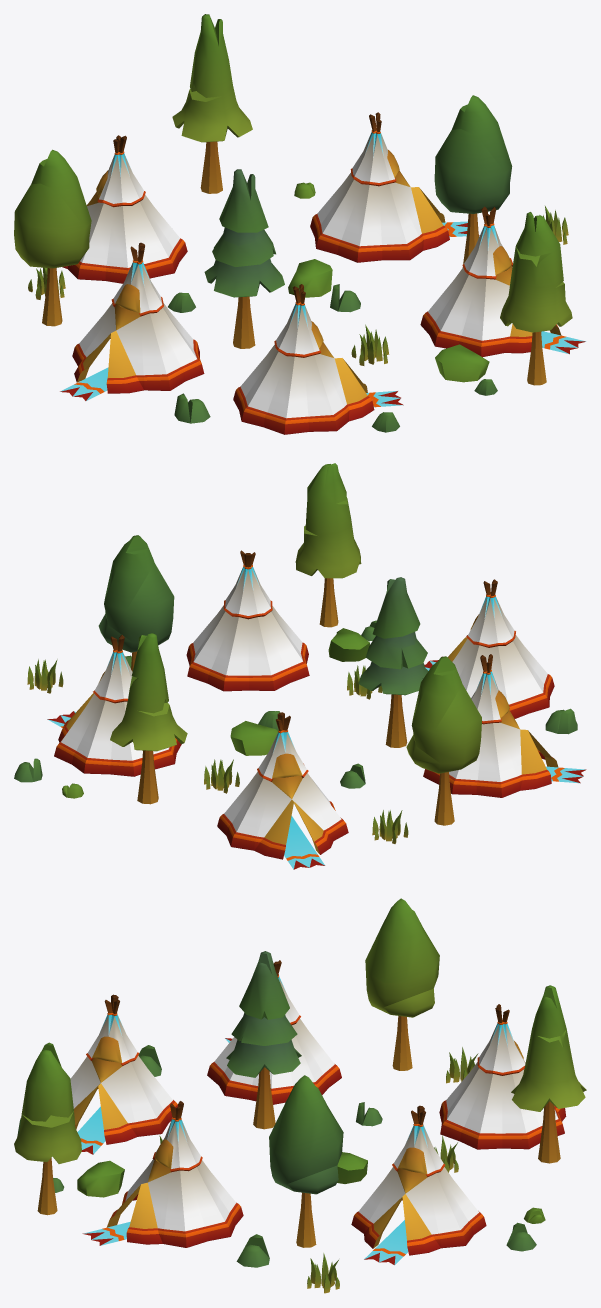
File: SM_House01_F.fbx
The picture shows the model from 3 angles, top to bottom: view 1: azimuth 30°, elevation 25°; view 2: azimuth 150°, elevation 25°; view 3: azimuth 270°, elevation 25°; orthographic projection. The views are drawn at different scales.
Parts seen in each view (by area): view 1: Bush01.001; view 2: Bush01.001; view 3: Bush01.001.
Part boxes in pixels (left/top/right/bottom): Bush01.001: left=14, top=14, right=586, bottom=434; Bush01.001: left=14, top=463, right=586, bottom=869; Bush01.001: left=14, top=898, right=586, bottom=1293.
Size of the model in its own units: 660 by 227 by 617.
